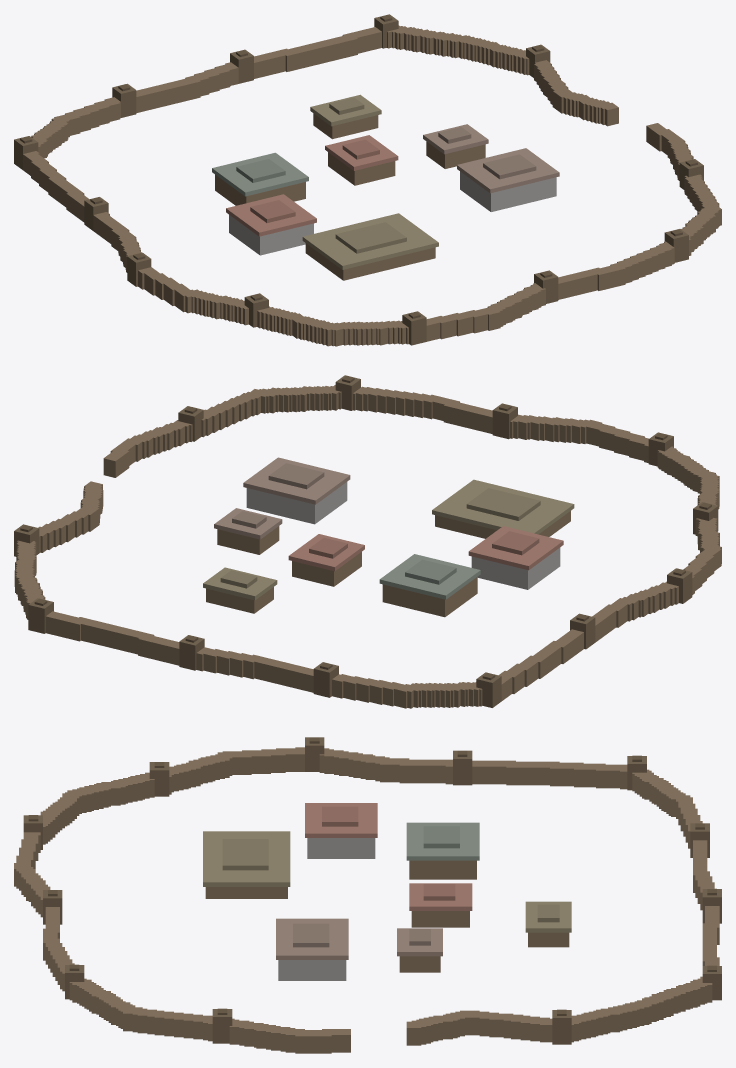
File: ciudad_campamento_barbaros_grande_584_2769_01.glb
3 renders of one model, top to bottom at view 1: azimuth 30°, elevation 25°; view 2: azimuth 150°, elevation 25°; view 3: azimuth 270°, elevation 25°, orthographic. The views are drawn at different scales.
Parts seen in each view (by area): view 1: ciudad_campamento_barbaros_grande_584_2769; view 2: ciudad_campamento_barbaros_grande_584_2769; view 3: ciudad_campamento_barbaros_grande_584_2769.
Part boxes in pixels (left/top/right/bottom): ciudad_campamento_barbaros_grande_584_2769: left=14, top=14, right=721, bottom=346; ciudad_campamento_barbaros_grande_584_2769: left=14, top=375, right=721, bottom=708; ciudad_campamento_barbaros_grande_584_2769: left=14, top=737, right=721, bottom=1053.
Size of the model in its own units: 70.75 by 3.5 by 73.
